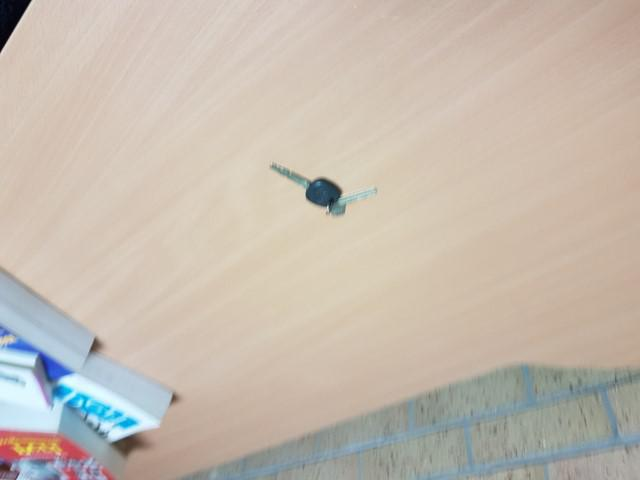key: (269, 160, 341, 205)
